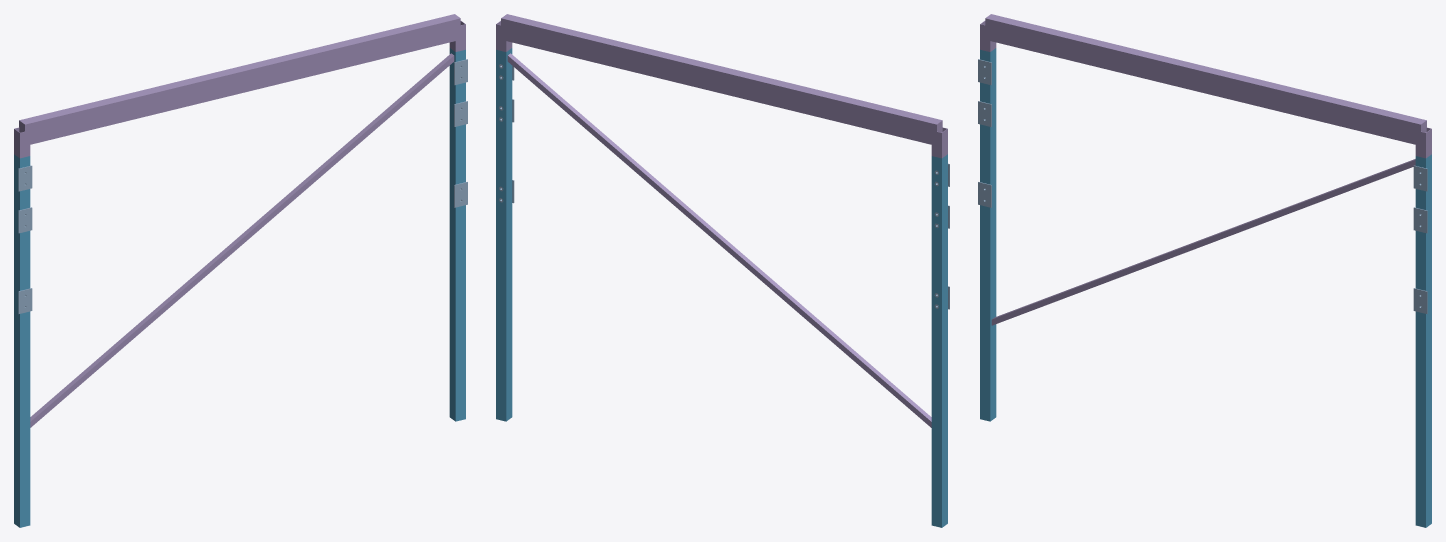
Rendered from baaabs-panel-mounting-v3-transport.glb.
3 views of the same model, side by side, from view 1: azimuth 30°, elevation 25°; view 2: azimuth 150°, elevation 25°; view 3: azimuth 330°, elevation 25° (orthographic).
Visible parts, largest first — view 1: Existing roof longitudinal, C driver upright, D driver upright, Existing C-D side brace; view 2: Existing roof longitudinal, C driver upright, D driver upright, Existing C-D side brace; view 3: Existing roof longitudinal, D driver upright, C driver upright, Existing C-D side brace.
Boxes of the visible parts, box(x1,y1,x2,y2) form: Existing roof longitudinal: box(19, 14, 460, 145); C driver upright: box(14, 154, 30, 527); D driver upright: box(449, 48, 465, 421); Existing C-D side brace: box(30, 53, 454, 427); Existing roof longitudinal: box(501, 14, 942, 145); C driver upright: box(931, 154, 947, 527); D driver upright: box(496, 48, 512, 421); Existing C-D side brace: box(507, 53, 931, 427); Existing roof longitudinal: box(985, 14, 1426, 144); D driver upright: box(1415, 154, 1431, 527); C driver upright: box(980, 48, 996, 421); Existing C-D side brace: box(991, 159, 1415, 325).
Size of the model in its own units: 3.34 by 2.85 by 0.0822.
